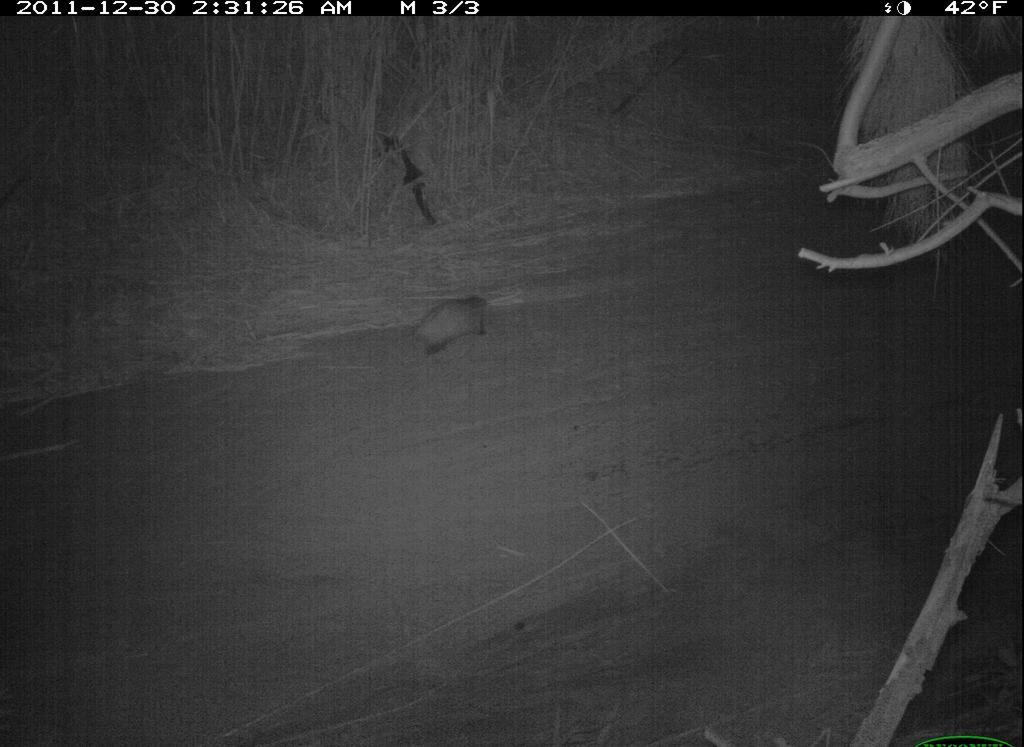opossum: (409, 291, 495, 367)
